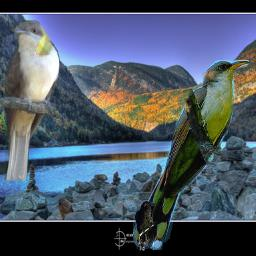Crow: (135, 201, 156, 249)
Cuckoo: (133, 60, 249, 250), (1, 20, 60, 181)
